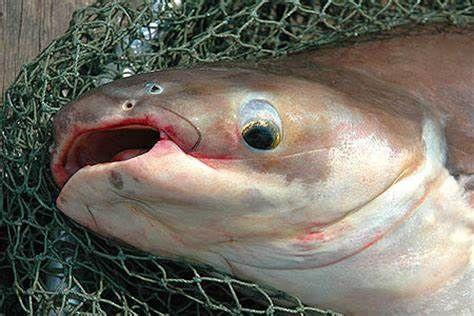Pangasius: (49, 18, 474, 296)
